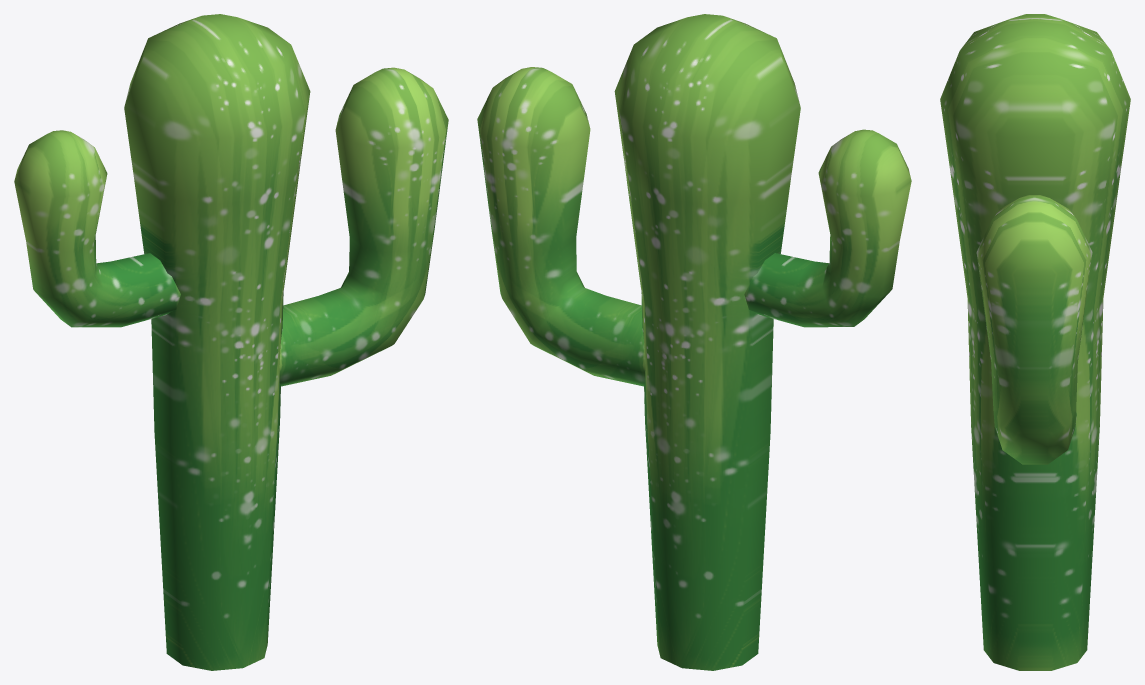
Rendered from Cactus1.fbx.
3 views of the same model, side by side, from view 1: azimuth 30°, elevation 25°; view 2: azimuth 150°, elevation 25°; view 3: azimuth 270°, elevation 25° (orthographic).
Parts seen in each view (by area): view 1: Cactus1; view 2: Cactus1; view 3: Cactus1.
Part boxes in pixels (x1=…): Cactus1: x1=14, y1=14, x2=448, y2=670; Cactus1: x1=477, y1=14, x2=911, y2=670; Cactus1: x1=940, y1=14, x2=1130, y2=670.
Bounding box in the file's own units: 2659 × 3806 × 1048.
